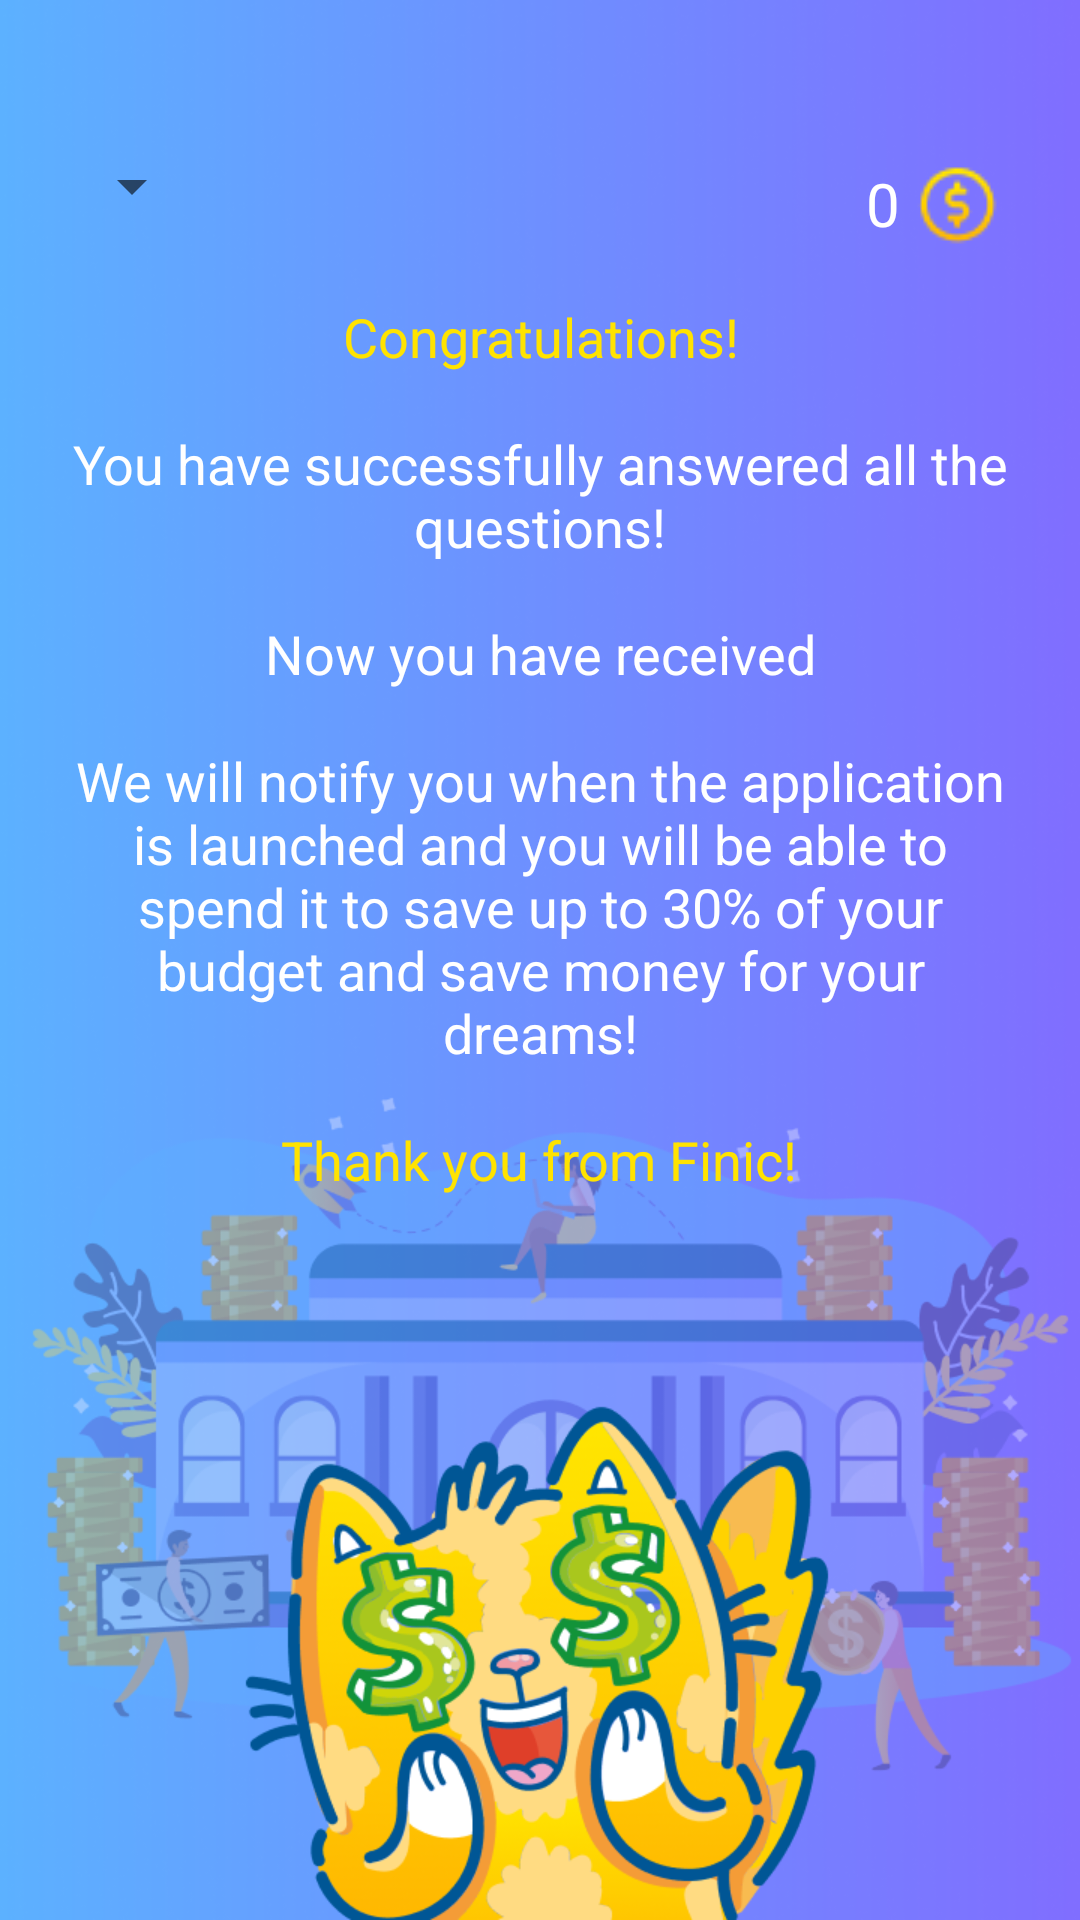

Icons on this 1080px x 1920px Android screen, each with its box as (x1=x1, y1=y1, x2=x2, y2=y2):
money: (x1=920, y1=167, x2=996, y2=244)
